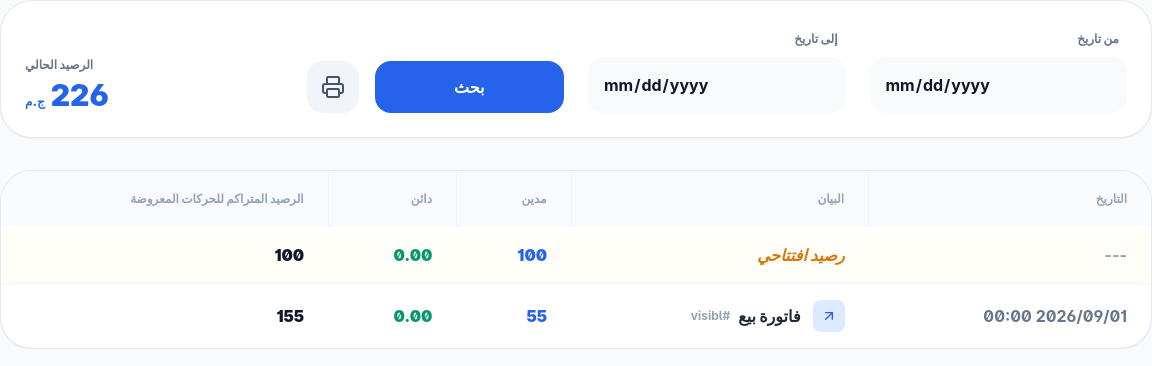
it: CustomerStatementContent active profile subclient › labels running and filtered balances as visible-movement balances when chain-wide debt includes hidden branch activity
Expected: the column heading "الرصيد المتراكم للحركات المعروضة" is shown, [1,171,328,227]
Type "2026-09-01" into the date field labelled "من تاريخ" at (998, 85), box [870,57,1127,113]
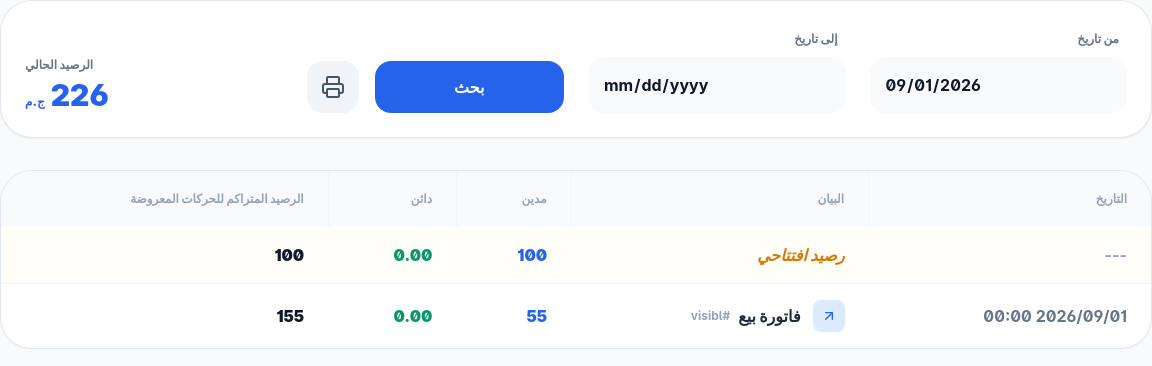
Click the button "بحث" at (469, 87), box [374,61,564,113]
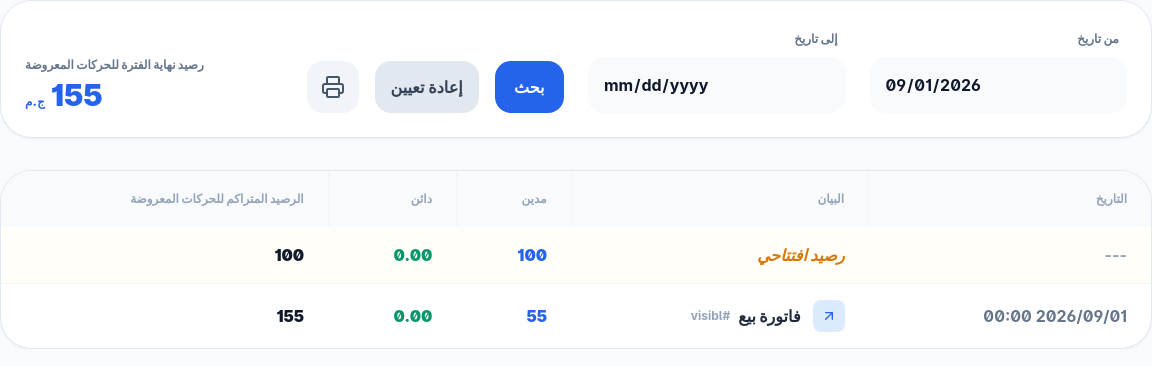
Result: the text "رصيد نهاية الفترة للحركات المعروضة" is shown at [25,57,204,72]
